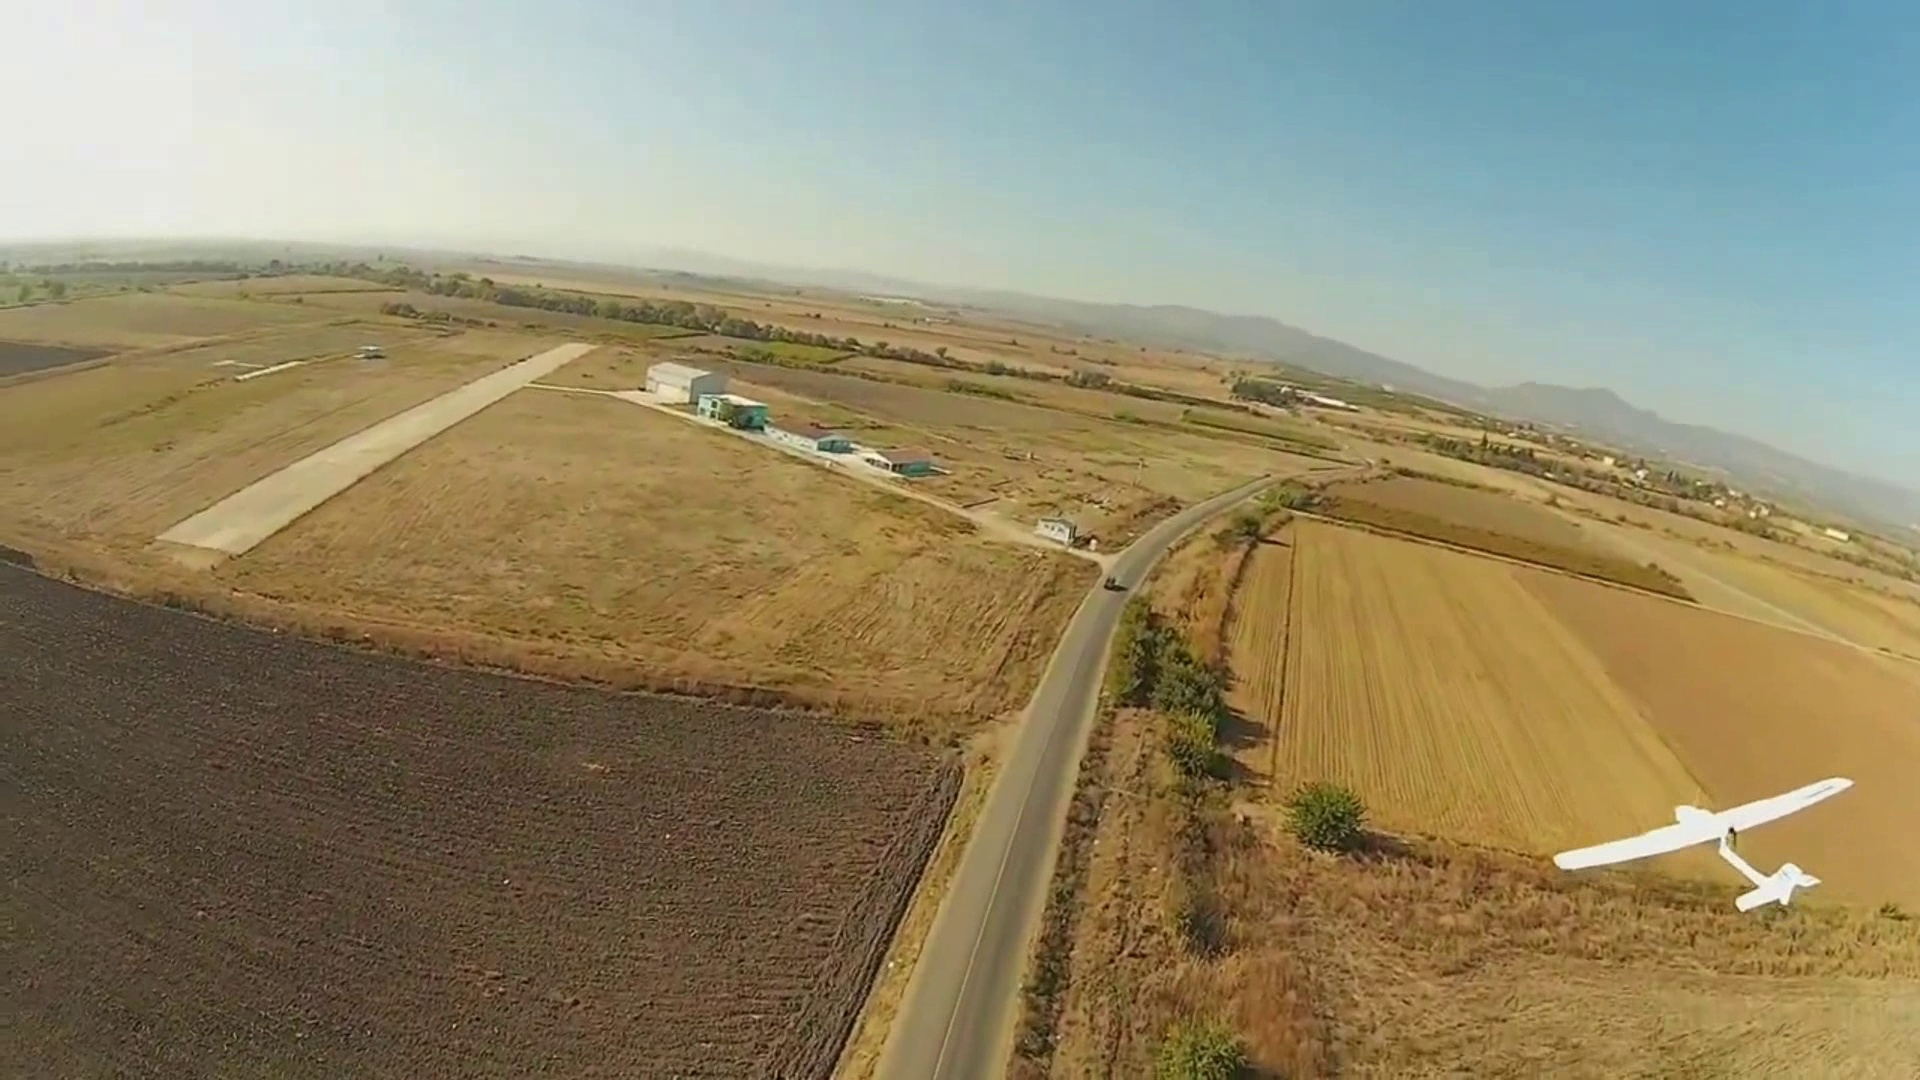airplane: (1553, 777, 1855, 918)
